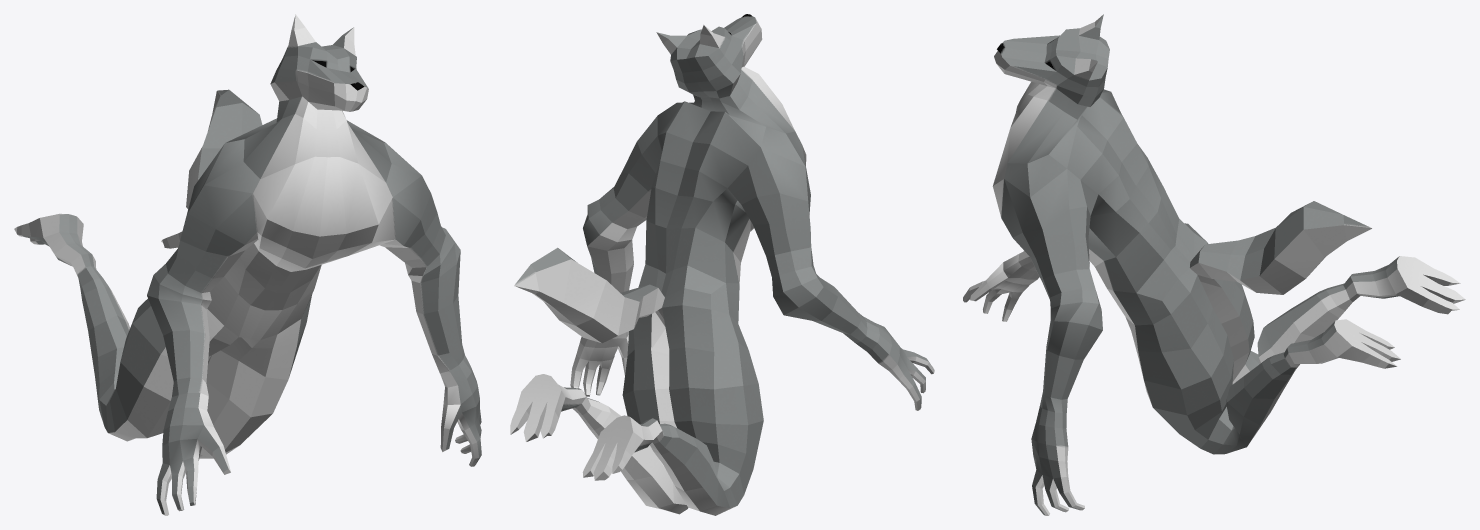
File: WolfDead(58).obj
The picture shows the model from 3 angles, left to right: view 1: azimuth 30°, elevation 25°; view 2: azimuth 150°, elevation 25°; view 3: azimuth 270°, elevation 25°; orthographic projection. The views are drawn at different scales.
Visible parts, largest first — view 1: Box001; view 2: Box001; view 3: Box001.
Boxes of the visible parts, bbox=[...] form: Box001: bbox=[14, 14, 481, 515]; Box001: bbox=[510, 14, 934, 515]; Box001: bbox=[963, 14, 1465, 515].
Size of the model in its own units: 86.75 by 113 by 115.
